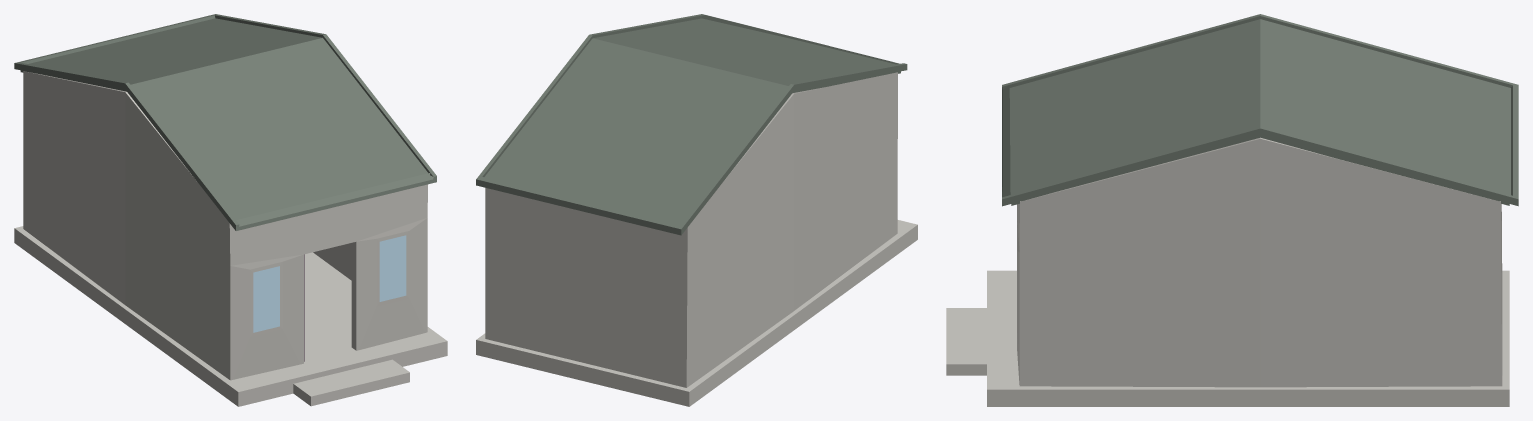
File: REMAKE_turbina_3.fbx
3 views of the same model, side by side, from view 1: azimuth 30°, elevation 25°; view 2: azimuth 150°, elevation 25°; view 3: azimuth 270°, elevation 25° (orthographic). The views are drawn at different scales.
Parts seen in each view (by area): view 1: pantry.001; view 2: pantry.001; view 3: pantry.001.
Part boxes in pixels (left/top/right/bottom): pantry.001: left=14, top=14, right=447, bottom=406; pantry.001: left=476, top=14, right=917, bottom=406; pantry.001: left=946, top=14, right=1518, bottom=406.
Bounding box in the file's own units: 400 × 433 × 813.
